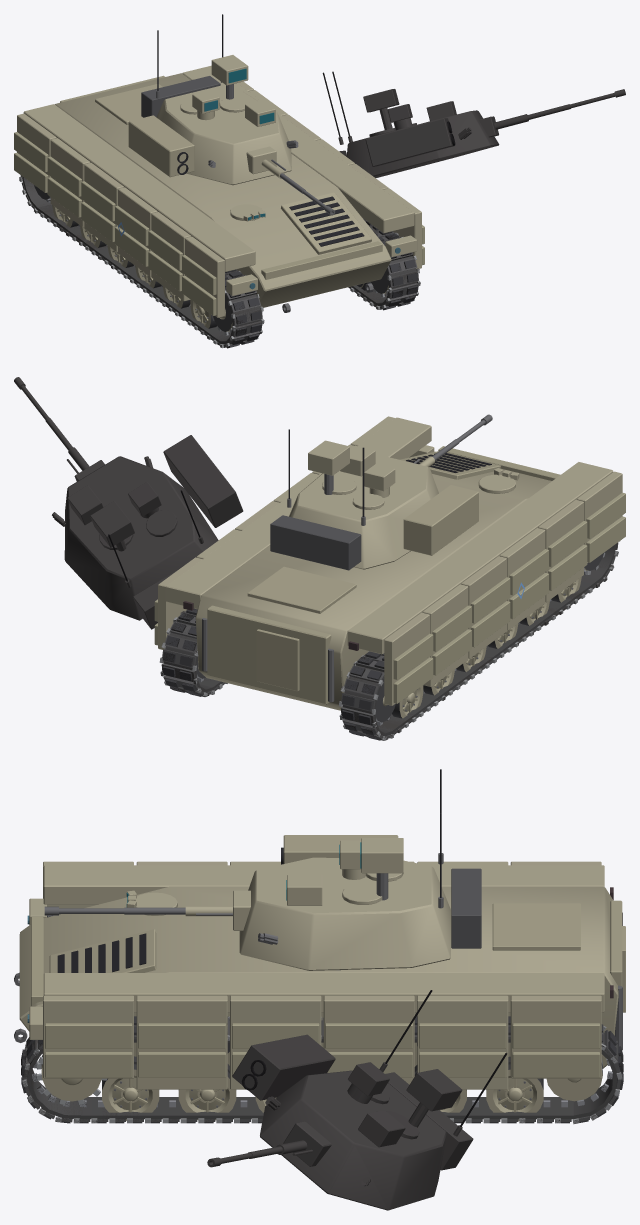
Rendered from reconVehicle__m3_bradley_scout.glb.
The picture shows the model from 3 angles, top to bottom: view 1: azimuth 30°, elevation 25°; view 2: azimuth 150°, elevation 25°; view 3: azimuth 270°, elevation 25°; orthographic projection. The views are drawn at different scales.
Visible parts, largest first — view 1: Hull_Mesh, Turret_Mesh, Wreck, Track_L_Mesh, Track_R_Mesh, Gun_Mesh; view 2: Hull_Mesh, Wreck, Turret_Mesh, Track_L_Mesh, Track_R_Mesh, Gun_Mesh, Wheel_L0_Mesh; view 3: Hull_Mesh, Wreck, Turret_Mesh, Track_R_Mesh, Gun_Mesh, Wheel_R0_Mesh, Wheel_R5_Mesh, Wheel_R4_Mesh, Sprocket_R_Mesh, Idler_R_Mesh.
Part boxes in pixels (x1=…): Hull_Mesh: x1=14, y1=65, x2=424, y2=317; Turret_Mesh: x1=128, y1=14, x2=298, y2=185; Wreck: x1=19, y1=71, x2=625, y2=348; Track_L_Mesh: x1=19, y1=175, x2=264, y2=348; Track_R_Mesh: x1=348, y1=218, x2=420, y2=310; Gun_Mesh: x1=246, y1=146, x2=335, y2=215; Hull_Mesh: x1=154, y1=416, x2=625, y2=710; Wreck: x1=14, y1=377, x2=617, y2=739; Turret_Mesh: x1=270, y1=429, x2=478, y2=570; Track_L_Mesh: x1=339, y1=541, x2=619, y2=740; Track_R_Mesh: x1=159, y1=609, x2=227, y2=696; Gun_Mesh: x1=413, y1=414, x2=492, y2=466; Wheel_L0_Mesh: x1=392, y1=685, x2=423, y2=718; Hull_Mesh: x1=14, y1=861, x2=625, y2=1089; Wreck: x1=21, y1=915, x2=623, y2=1210; Turret_Mesh: x1=239, y1=769, x2=481, y2=970; Track_R_Mesh: x1=21, y1=1016, x2=623, y2=1124; Gun_Mesh: x1=44, y1=890, x2=250, y2=930; Wheel_R0_Mesh: x1=486, y1=1056, x2=543, y2=1121; Wheel_R5_Mesh: x1=102, y1=1056, x2=159, y2=1120; Wheel_R4_Mesh: x1=178, y1=1064, x2=236, y2=1120; Sprocket_R_Mesh: x1=36, y1=1054, x2=107, y2=1104; Idler_R_Mesh: x1=546, y1=1058, x2=602, y2=1101.
Size of what is drawn, in the model's own units: 8.6 by 3.49 by 6.92.
